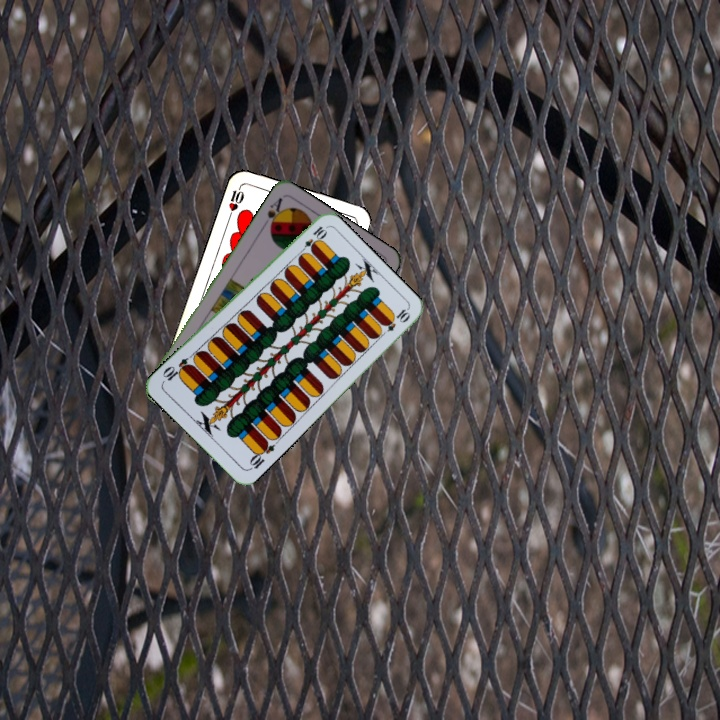E10: (296, 222, 329, 257), (245, 437, 277, 473)
H10: (224, 181, 247, 220)
SA: (259, 193, 287, 233)
